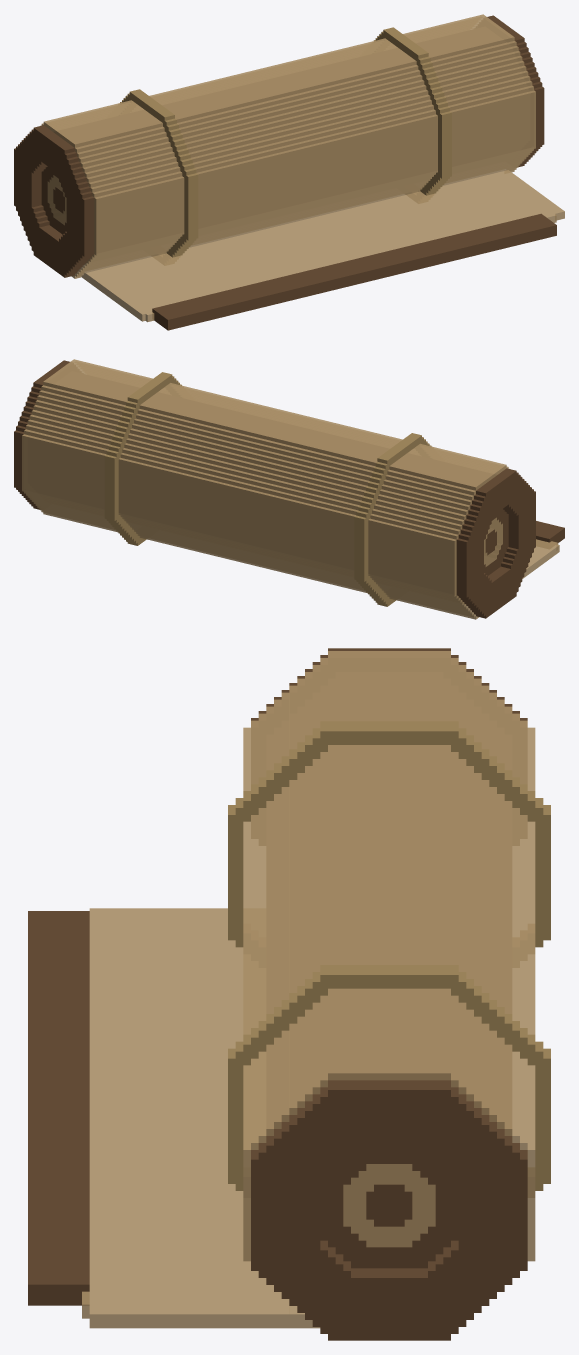
File: tanning_pelt.glb
The picture shows the model from 3 angles, top to bottom: view 1: azimuth 30°, elevation 25°; view 2: azimuth 150°, elevation 25°; view 3: azimuth 270°, elevation 25°; orthographic projection. The views are drawn at different scales.
Visible parts, largest first — view 1: tanning_pelt:compound; view 2: tanning_pelt:compound; view 3: tanning_pelt:compound.
Part boxes in pixels (bbox=[...]): tanning_pelt:compound: bbox=[14, 14, 564, 330]; tanning_pelt:compound: bbox=[14, 359, 564, 619]; tanning_pelt:compound: bbox=[28, 648, 550, 1340].
Bounding box in the file's own units: 0.272 × 0.084 × 0.136.
